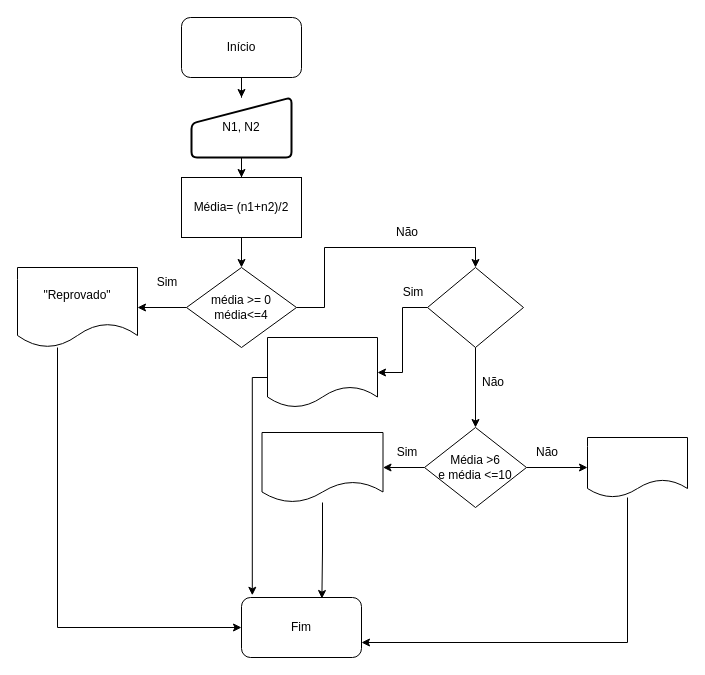
The diagram is 705 pixels wide and 675 high, and some of its shapes have lost their labels. Here are the shapes that lost their labels. From the top down, the centre of each, then its label:
(475,307): média >4 e média <=6
(322,372): "Recuperação"
(322,467): "Aprovado"
(637,467): "Informação inválida"
